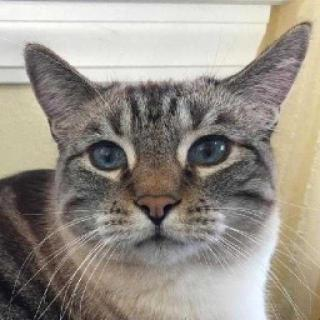cat: (22, 38, 320, 278)
nose: (130, 174, 192, 229)
